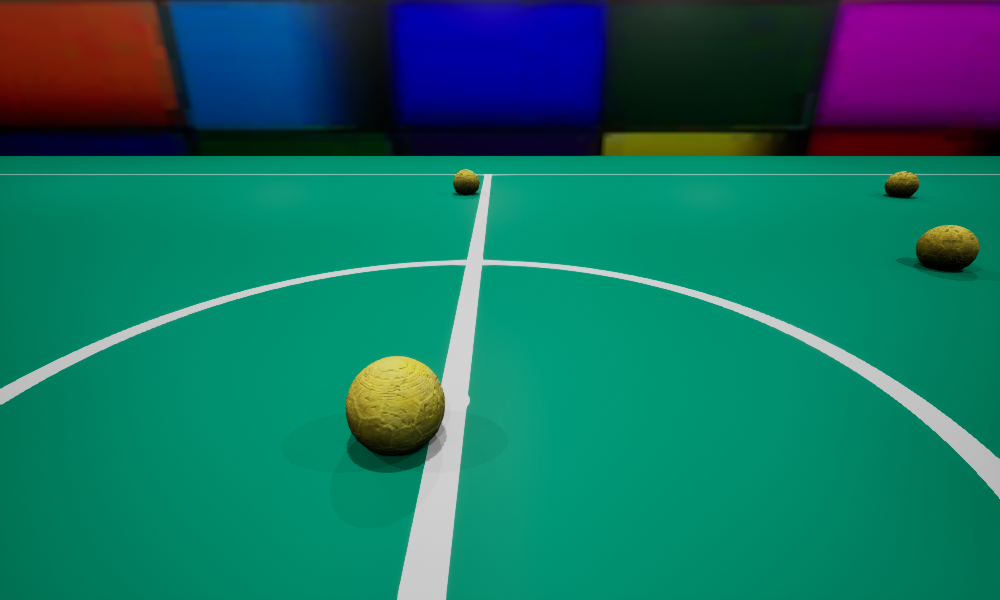b: (345, 356, 444, 454), (916, 225, 978, 270), (884, 171, 918, 197), (453, 169, 479, 194)
